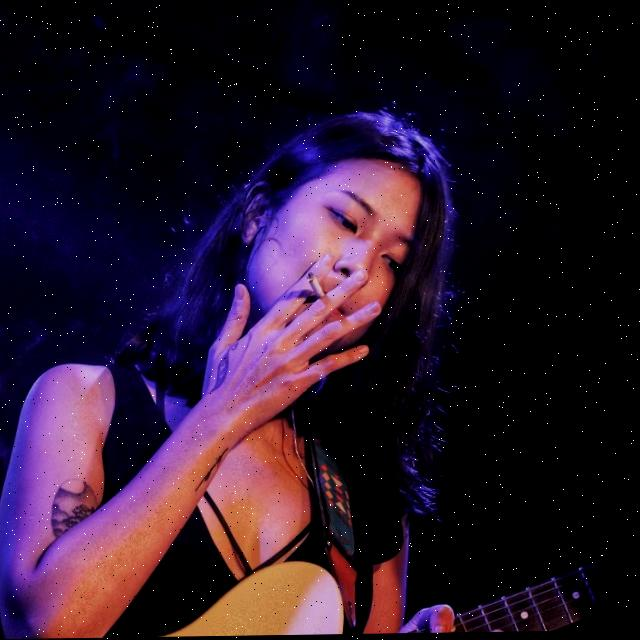cigarette: (309, 272, 331, 300)
